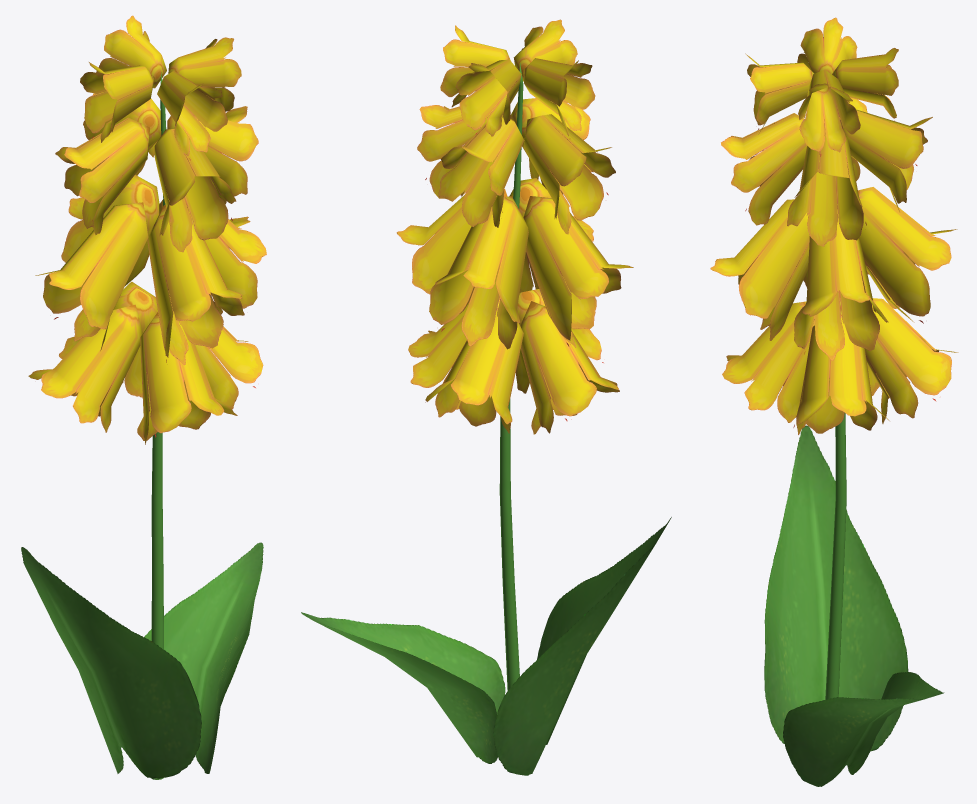
Rendered from Flower_4_Single.gltf.
3 views of the same model, side by side, from view 1: azimuth 30°, elevation 25°; view 2: azimuth 150°, elevation 25°; view 3: azimuth 270°, elevation 25° (orthographic).
Parts seen in each view (by area): view 1: Flower_4_Single; view 2: Flower_4_Single; view 3: Flower_4_Single.
Part boxes in pixels (x1=…): Flower_4_Single: x1=21, y1=15, x2=266, y2=779; Flower_4_Single: x1=301, y1=19, x2=671, y2=775; Flower_4_Single: x1=710, y1=17, x2=958, y2=786.
Bounding box in the file's own units: 1.07 × 2.42 × 0.7729.
2 materials, 2 textured.
